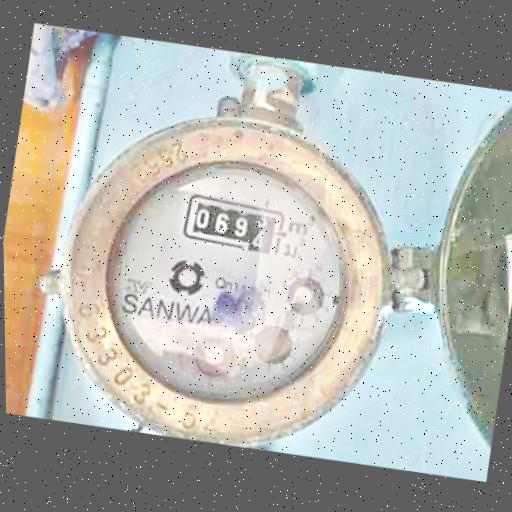0: (193, 203, 215, 235)
4: (247, 214, 276, 254)
6: (209, 206, 235, 239)
9: (229, 209, 254, 242)
border_water_meter_number: (180, 191, 287, 257)
